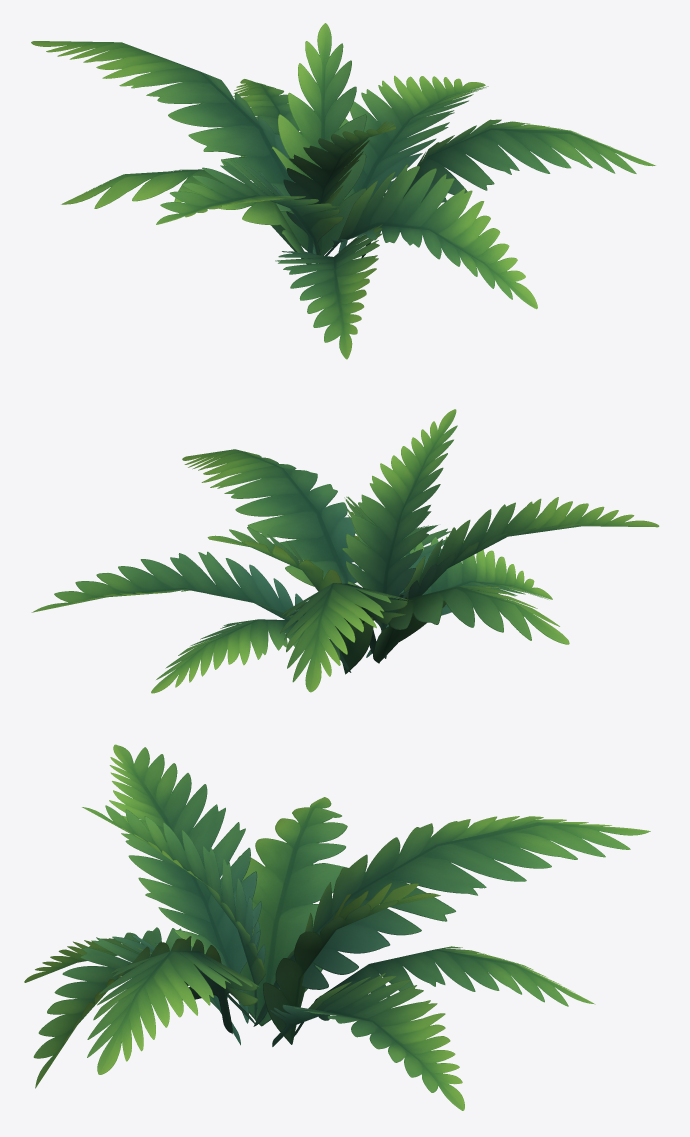
The picture shows the model from 3 angles, top to bottom: view 1: azimuth 30°, elevation 25°; view 2: azimuth 150°, elevation 25°; view 3: azimuth 270°, elevation 25°; orthographic projection. The views are drawn at different scales.
Visible parts, largest first — view 1: pl-fern-bushy-b; view 2: pl-fern-bushy-b; view 3: pl-fern-bushy-b.
Part boxes in pixels (left/top/right/bottom): pl-fern-bushy-b: left=31, top=23, right=655, bottom=359; pl-fern-bushy-b: left=31, top=409, right=659, bottom=693; pl-fern-bushy-b: left=24, top=744, right=650, bottom=1110.
Size of the model in its own units: 2.58 by 1.03 by 2.54.
1 material, 1 textured.
